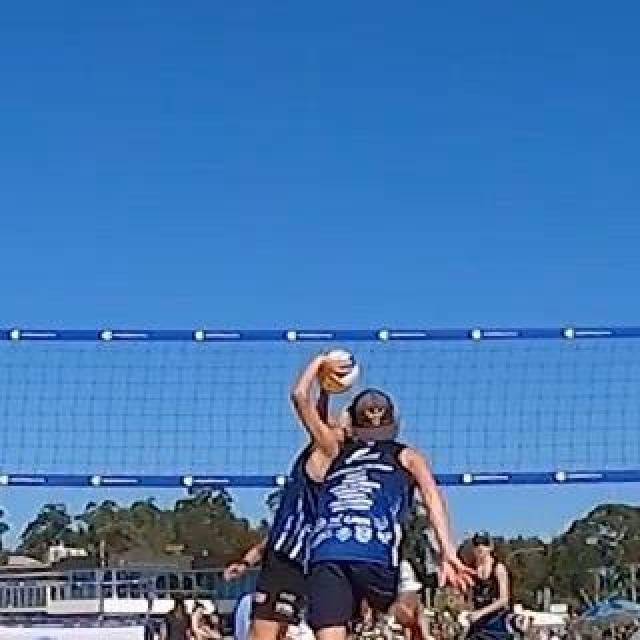volleyball: (317, 350, 357, 392)
